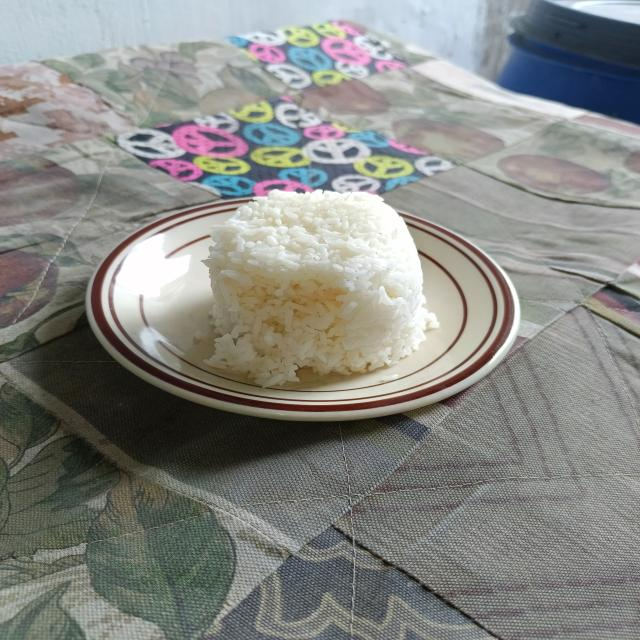Chicken -Chicken Inasal-: (218, 178, 420, 380)
